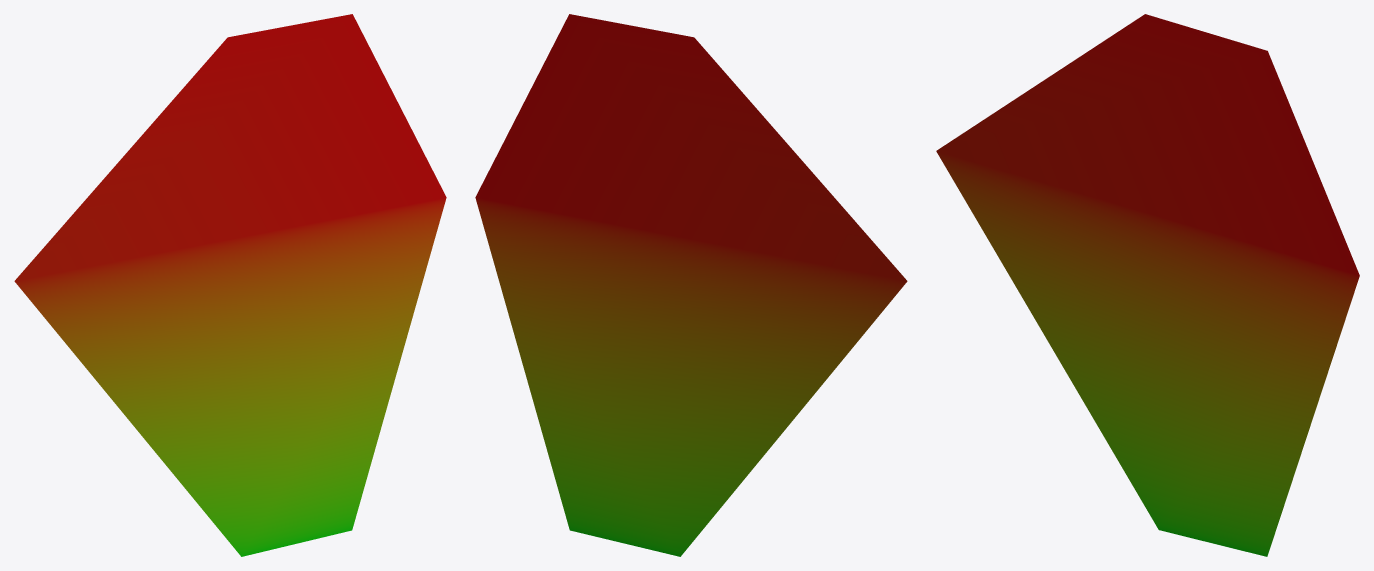
File: Mustard_LOD3_Var5_tbeqdbzr.fbx
3 renders of one model, left to right at view 1: azimuth 30°, elevation 25°; view 2: azimuth 150°, elevation 25°; view 3: azimuth 330°, elevation 25°, orthographic.
Visible parts, largest first — view 1: _61df_Var5_LOD3; view 2: _61df_Var5_LOD3; view 3: _61df_Var5_LOD3.
Boxes of the visible parts, x1=… form: _61df_Var5_LOD3: x1=14, y1=14, x2=446, y2=556; _61df_Var5_LOD3: x1=475, y1=14, x2=907, y2=556; _61df_Var5_LOD3: x1=936, y1=14, x2=1359, y2=556.
Size of the model in its own units: 13.21 by 15.29 by 5.66e-06.
